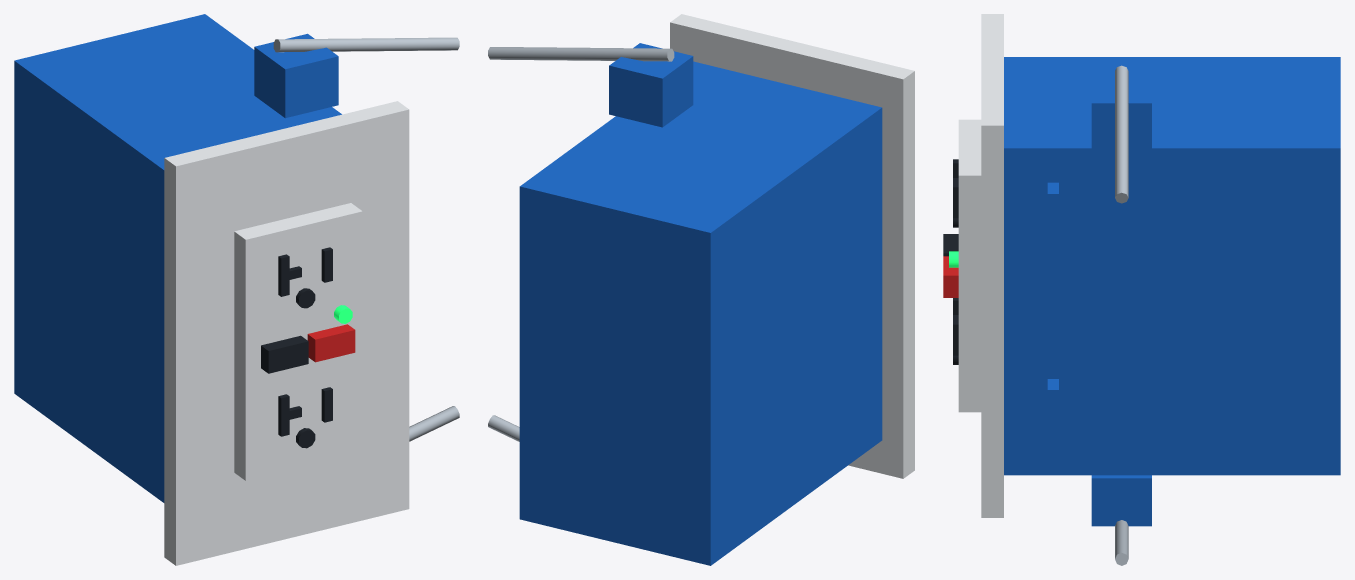
3 views of the same model, side by side, from view 1: azimuth 30°, elevation 25°; view 2: azimuth 150°, elevation 25°; view 3: azimuth 270°, elevation 25° (orthographic).
Parts seen in each view (by area): view 1: cad-device-gfci, cad-box-single-gang-deep; view 2: cad-box-single-gang-deep, cad-device-gfci; view 3: cad-box-single-gang-deep, cad-device-gfci.
Part boxes in pixels (x1,y1,x2,y2): cad-device-gfci: (164, 101, 409, 565); cad-box-single-gang-deep: (14, 14, 459, 502); cad-box-single-gang-deep: (488, 43, 882, 565); cad-device-gfci: (670, 14, 914, 478); cad-box-single-gang-deep: (1004, 57, 1340, 565); cad-device-gfci: (943, 14, 1003, 517).
Bounding box in the file's own units: 0.1057 × 0.1328 × 0.1049.
